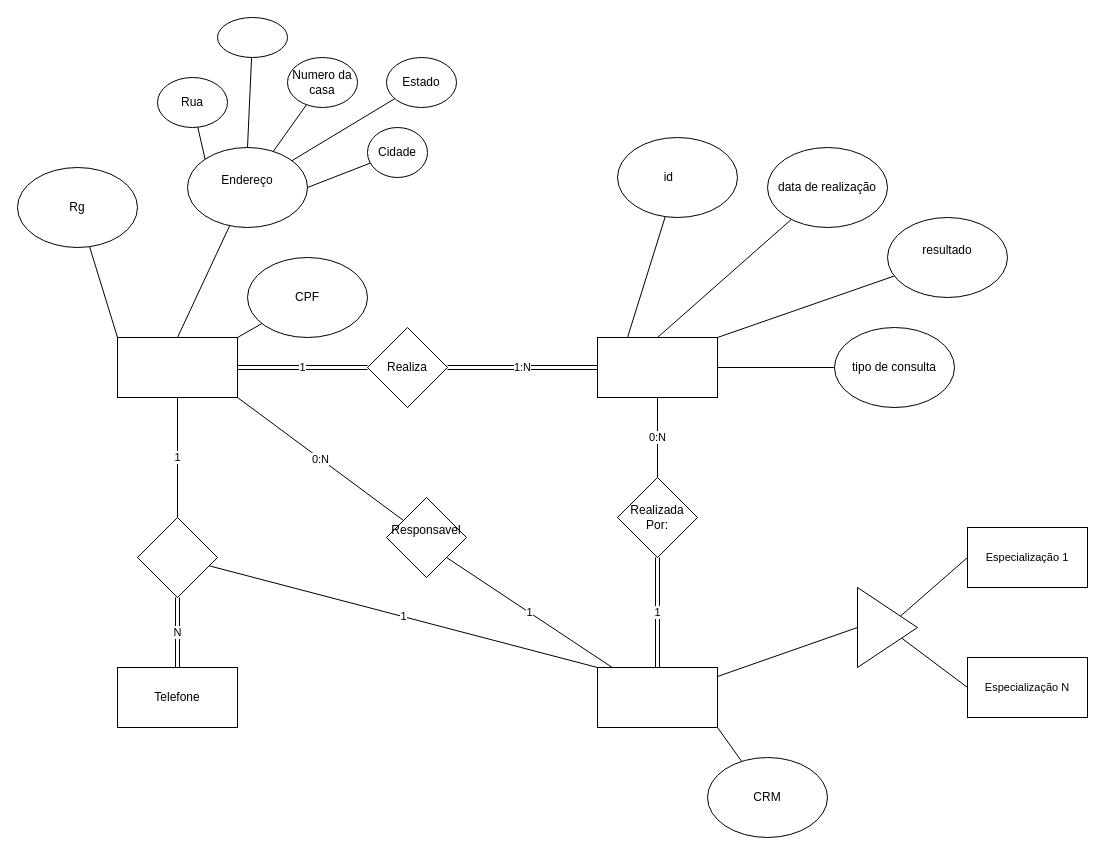
Some shapes in this 1105 by 855 pixel diagram are drawn without their labels. The centre of each missing label's shape, as x and y in pixels:
"Bairro" goes at point 252,37.
"Consulta" goes at point 657,367.
"Médico" goes at point 657,697.
"Paciente" goes at point 177,367.
"Possui" goes at point 177,557.
